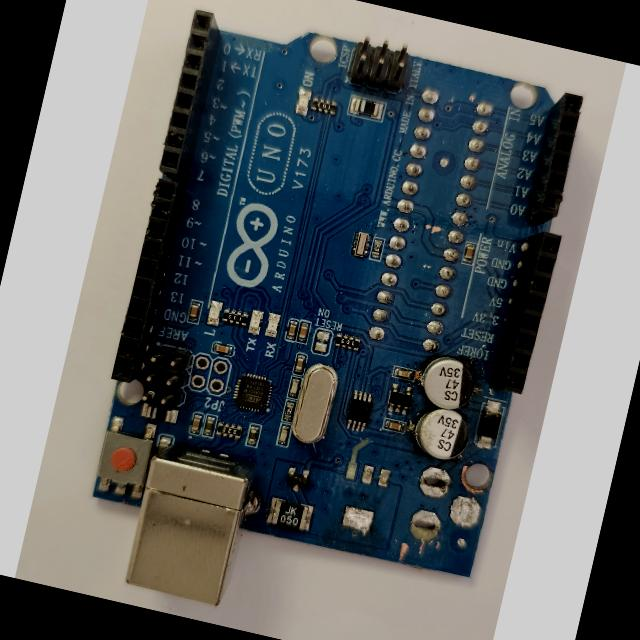missing_atmega: (358, 83, 508, 356)
missing_eps: (401, 460, 478, 560)
missing_voltage_reg: (329, 450, 400, 547)
